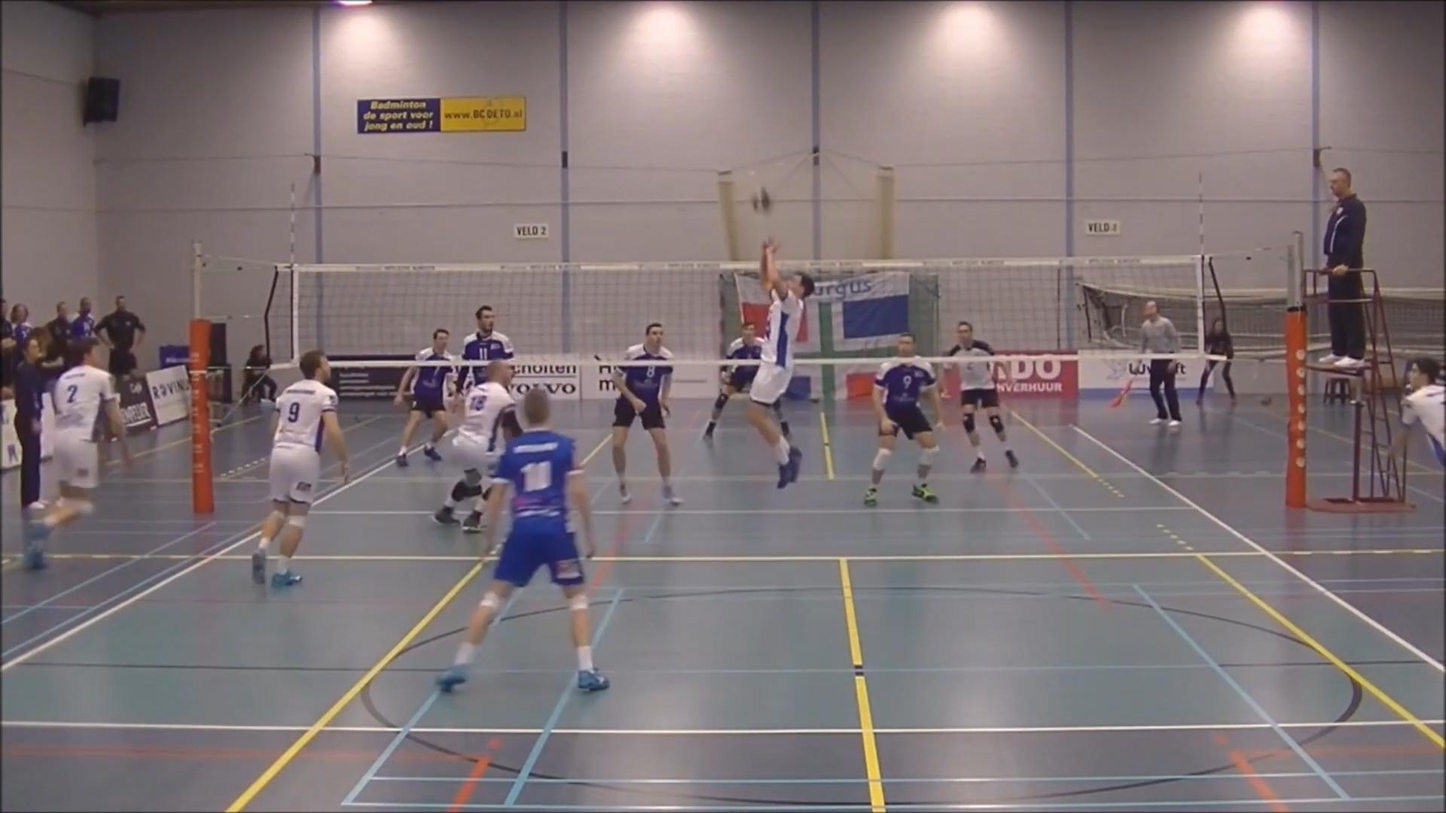alzata: (747, 235, 815, 496)
